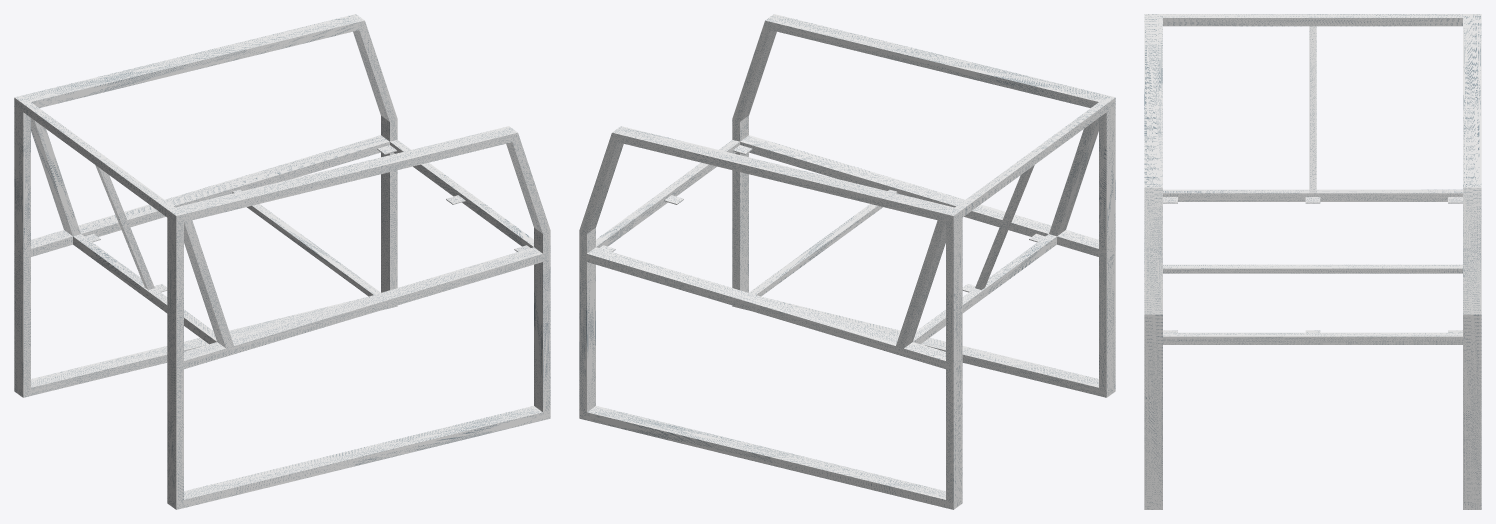
Rendered from frame.dae.
3 renders of one model, left to right at view 1: azimuth 30°, elevation 25°; view 2: azimuth 150°, elevation 25°; view 3: azimuth 270°, elevation 25°, orthographic. The views are drawn at different scales.
Parts seen in each view (by area): view 1: SketchUp; view 2: SketchUp; view 3: SketchUp.
Part boxes in pixels (box(x1,y1,x2,y2)): SketchUp: box(14, 14, 550, 509); SketchUp: box(579, 14, 1115, 509); SketchUp: box(1144, 14, 1481, 509).
Size of the model in its own units: 47.24 by 35.43 by 35.43.
